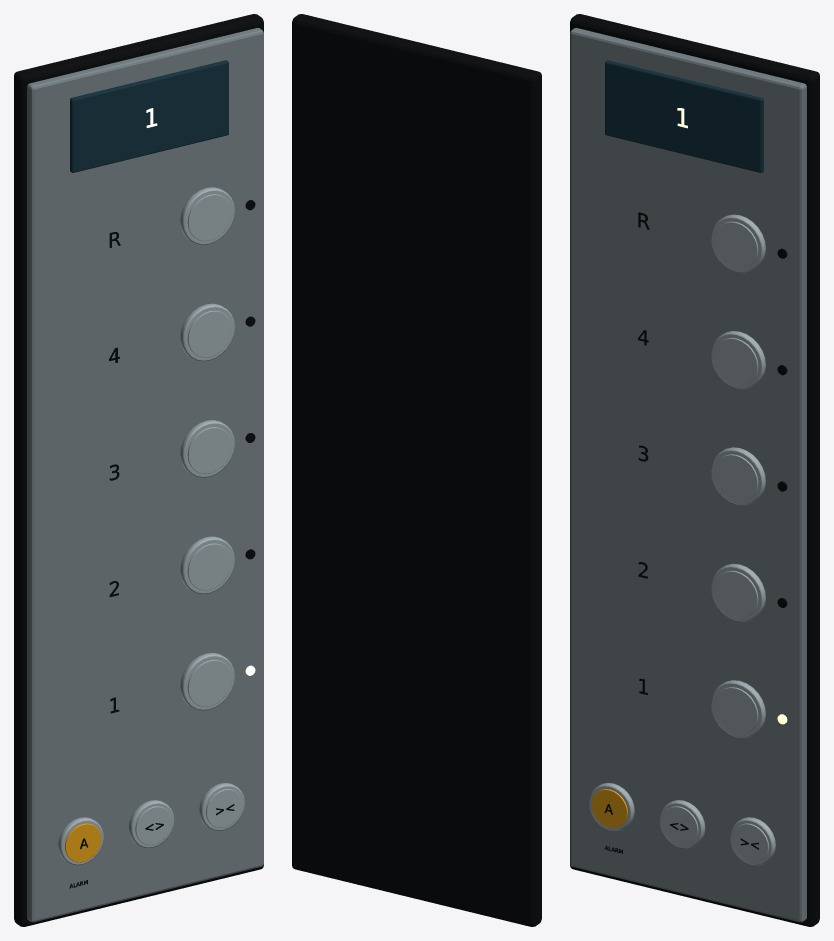
Rendered from OAA_Lift_ControlPanel_5Stops.fbx.
The picture shows the model from 3 angles, left to right: view 1: azimuth 30°, elevation 25°; view 2: azimuth 150°, elevation 25°; view 3: azimuth 330°, elevation 25°; orthographic projection.
Parts seen in each view (by area): view 1: Body; view 2: Body; view 3: Body.
Part boxes in pixels (x1=…): Body: x1=14, y1=14, x2=263, y2=926; Body: x1=292, y1=14, x2=541, y2=926; Body: x1=570, y1=14, x2=819, y2=926.
Size of the model in its own units: 0.27 by 0.9 by 0.0395.
